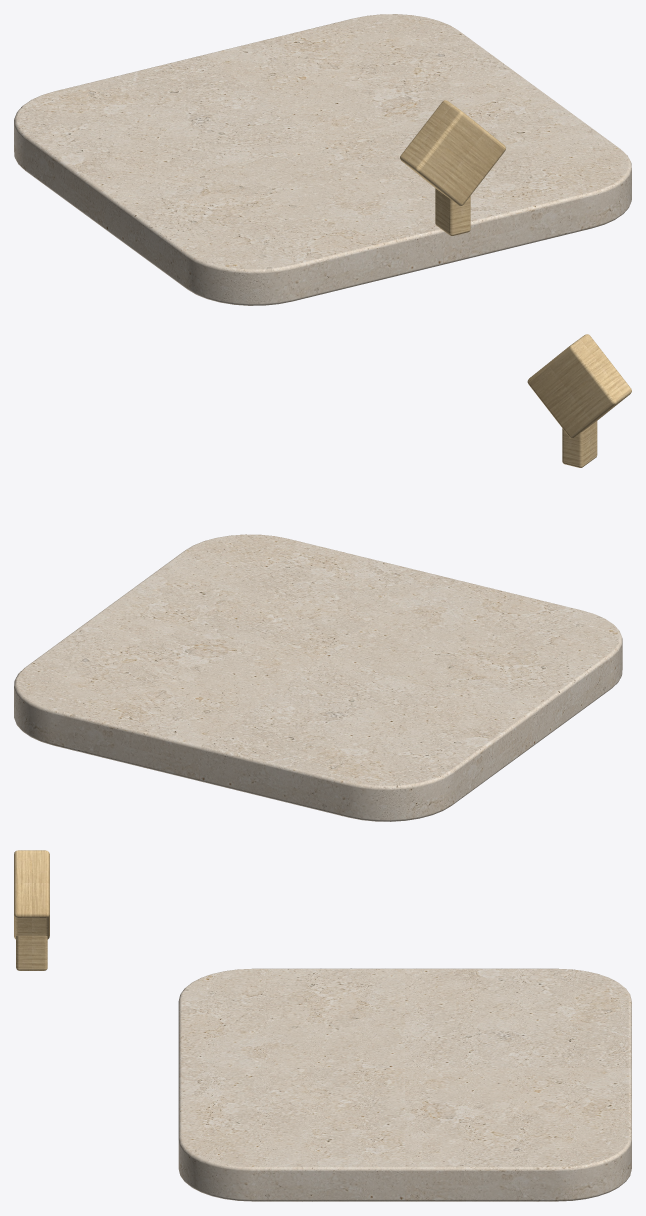
The model's file is roof.glb.
3 renders of one model, top to bottom at view 1: azimuth 30°, elevation 25°; view 2: azimuth 150°, elevation 25°; view 3: azimuth 270°, elevation 25°, orthographic. The views are drawn at different scales.
Visible parts, largest first — view 1: roof; view 2: roof; view 3: roof.
Part boxes in pixels (x1,y1,x2,y2): roof: (14,14,631,305); roof: (14,334,631,821); roof: (14,850,631,1201).
Bounding box in the file's own units: 2.25 × 1.15 × 2.93.
2 materials, 2 textured.
